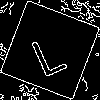L: (25, 25, 69, 78)
